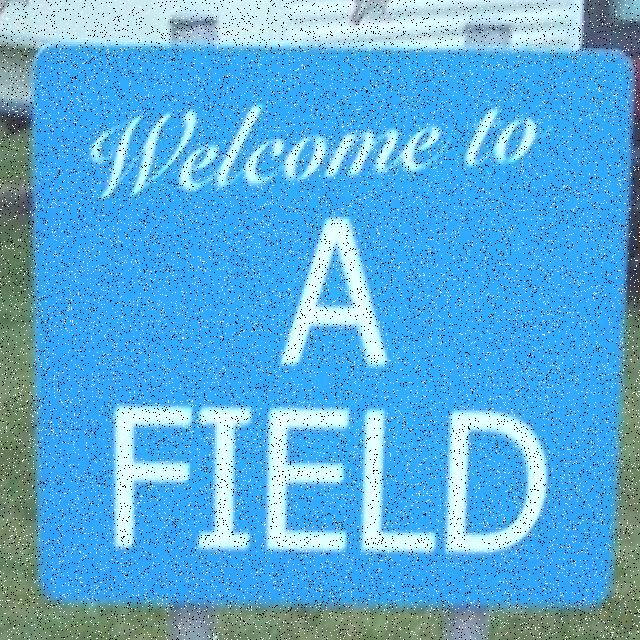licenseplate: (32, 48, 634, 600)
